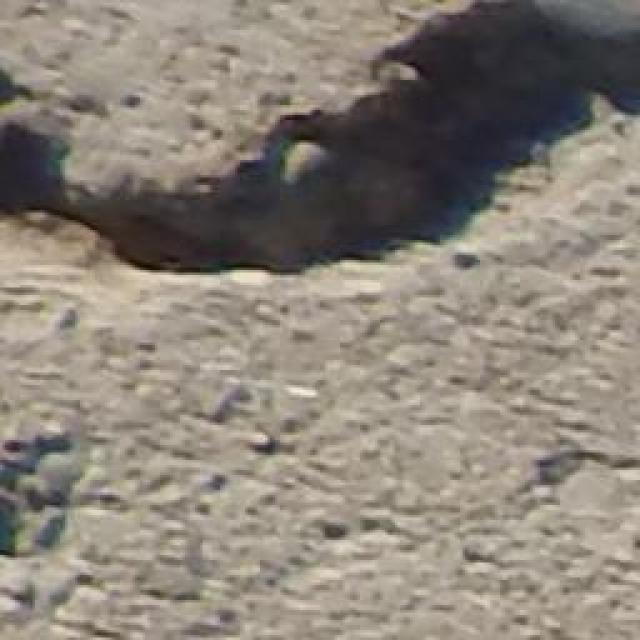concrete-crack: (0, 3, 640, 282), (0, 427, 101, 569), (516, 447, 635, 505)
